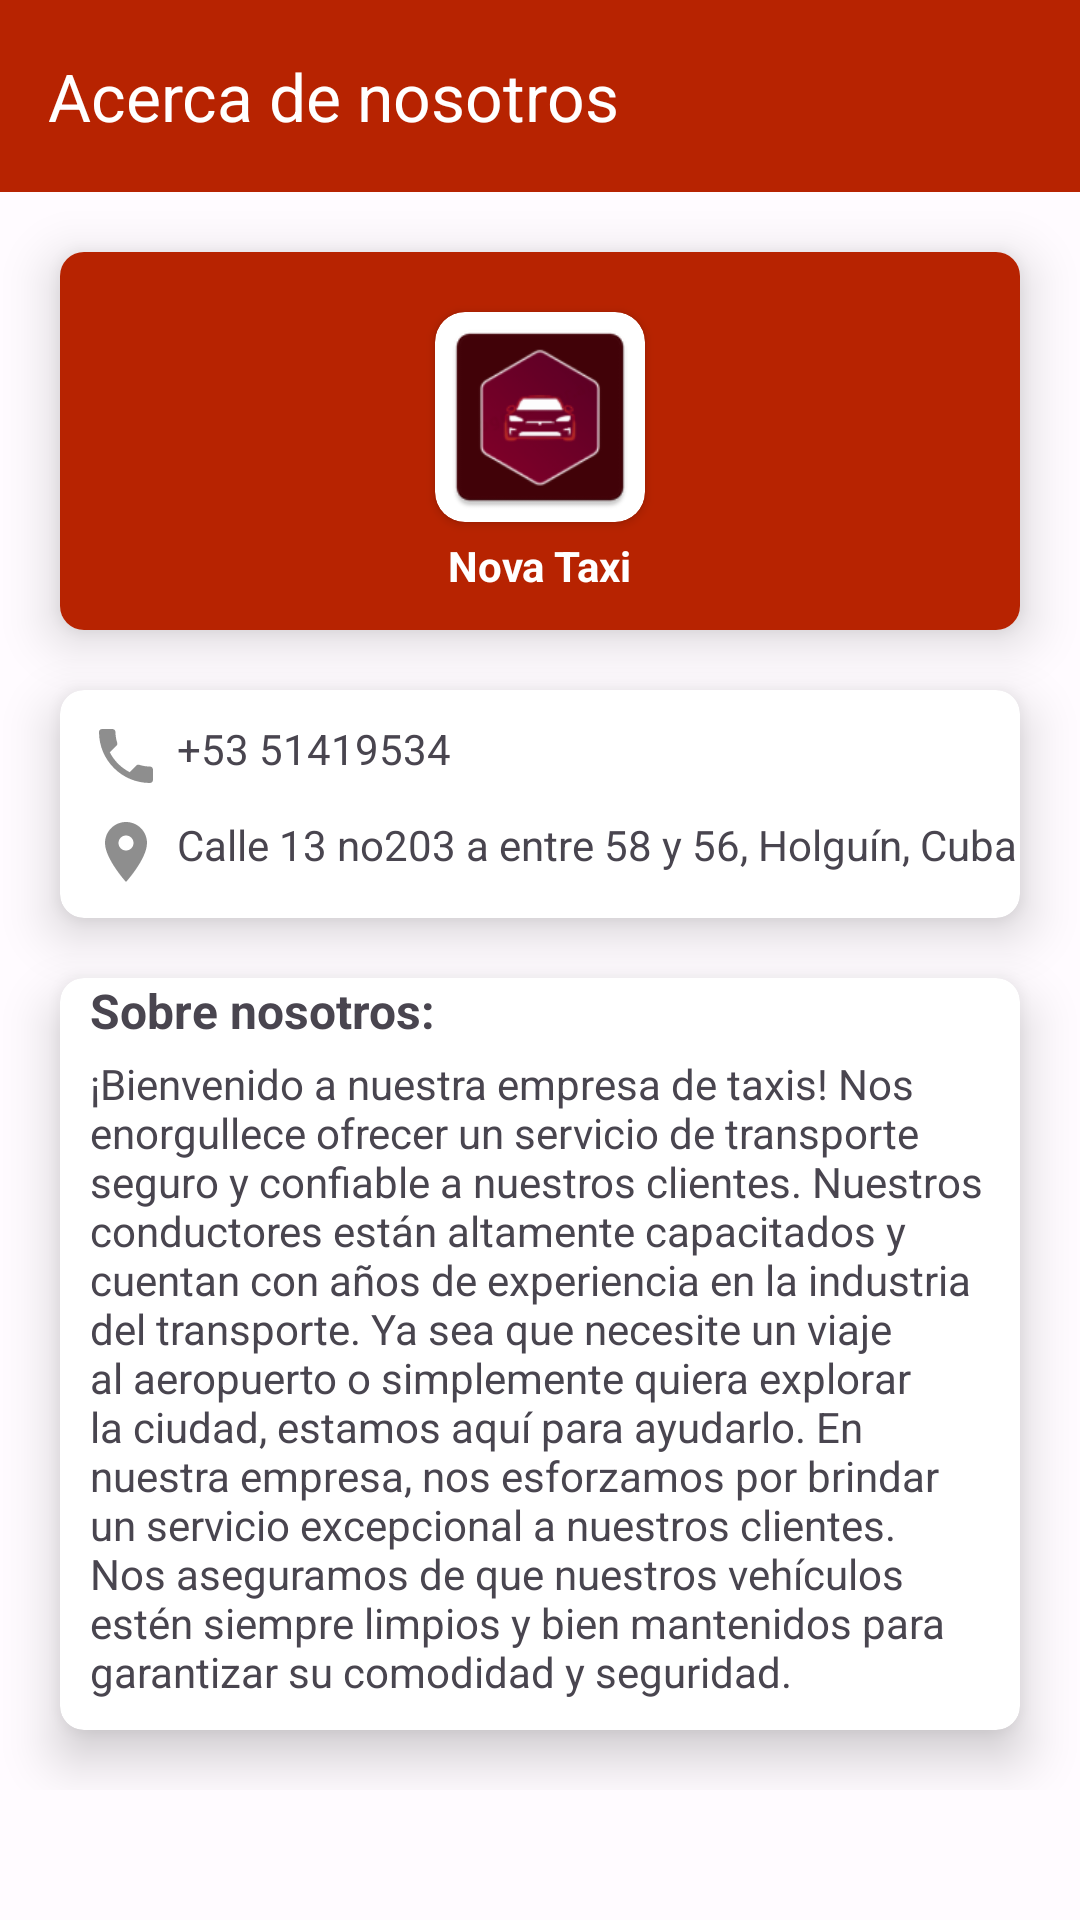

Locate icon controls on the screen. Image size 1080 x 1920, boxes as (x1, y1, x2, y2).
local phone: (99, 729, 153, 783)
location on: (105, 822, 147, 882)
